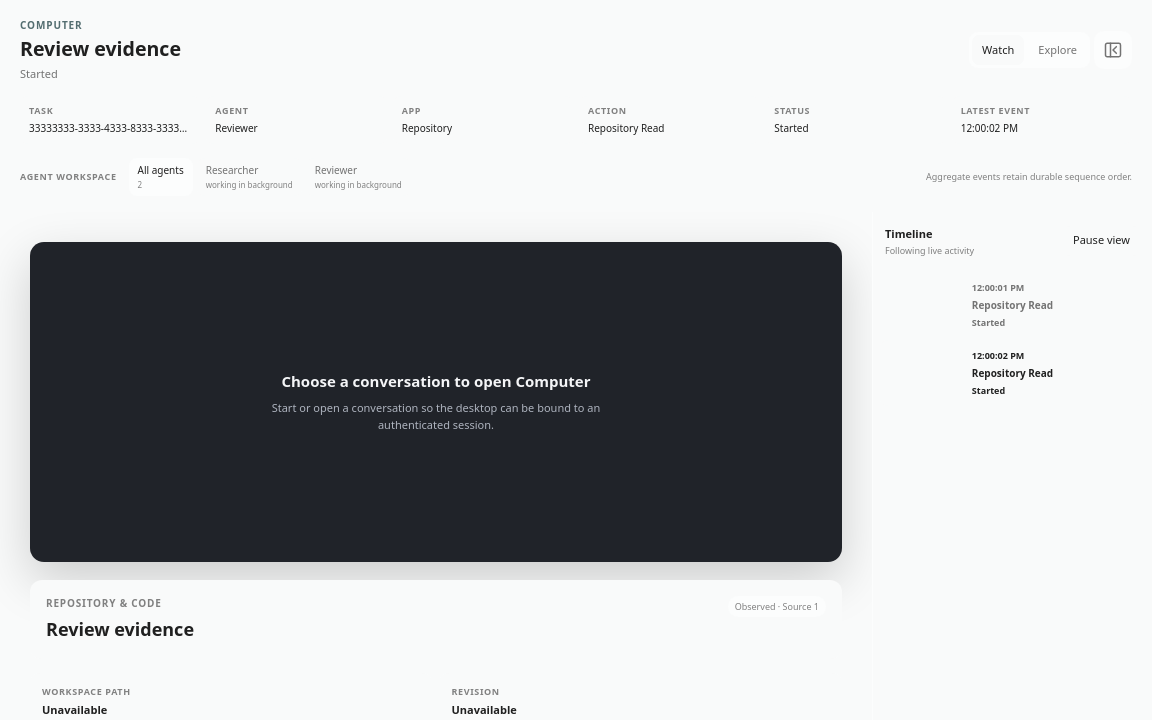
Computer stage › preserves independent live positions while switching agent workspaces
Click the button "Researcher working in background" at (249, 176), box [197,158,302,196]
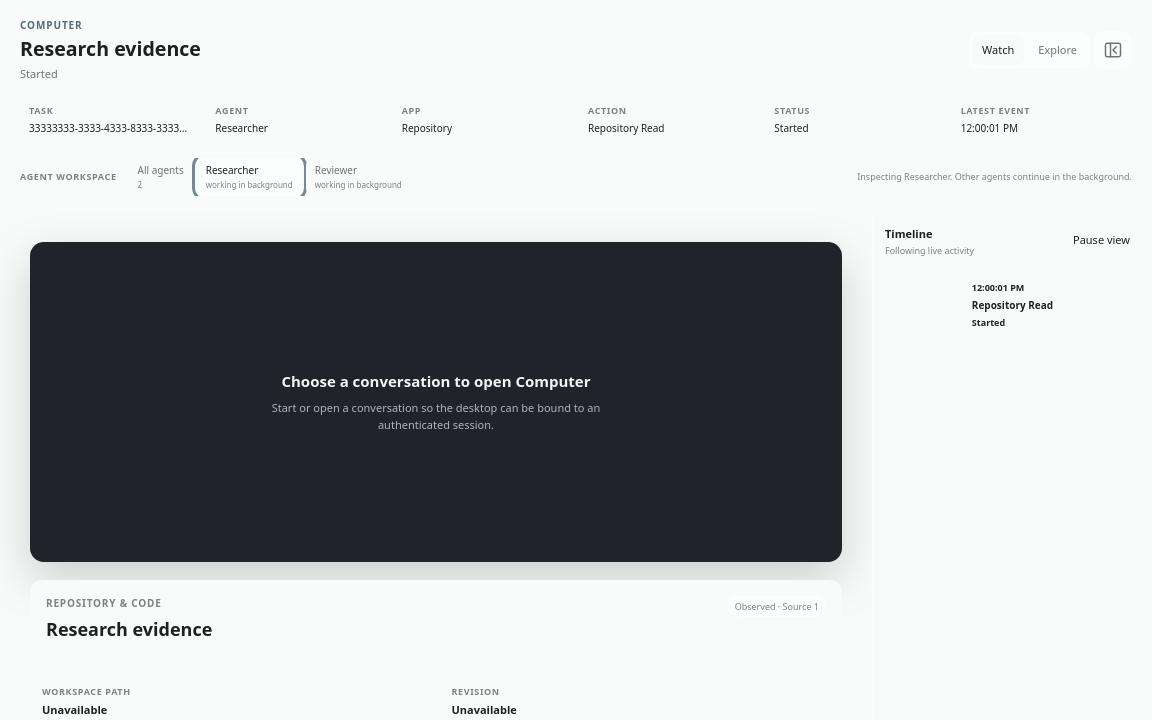
Expected: the number of headings "Research evidence" is 2, [20,35,201,62]; [46,616,212,642]
Click the button "Pause view" at (1102, 240), box [1063,226,1140,256]
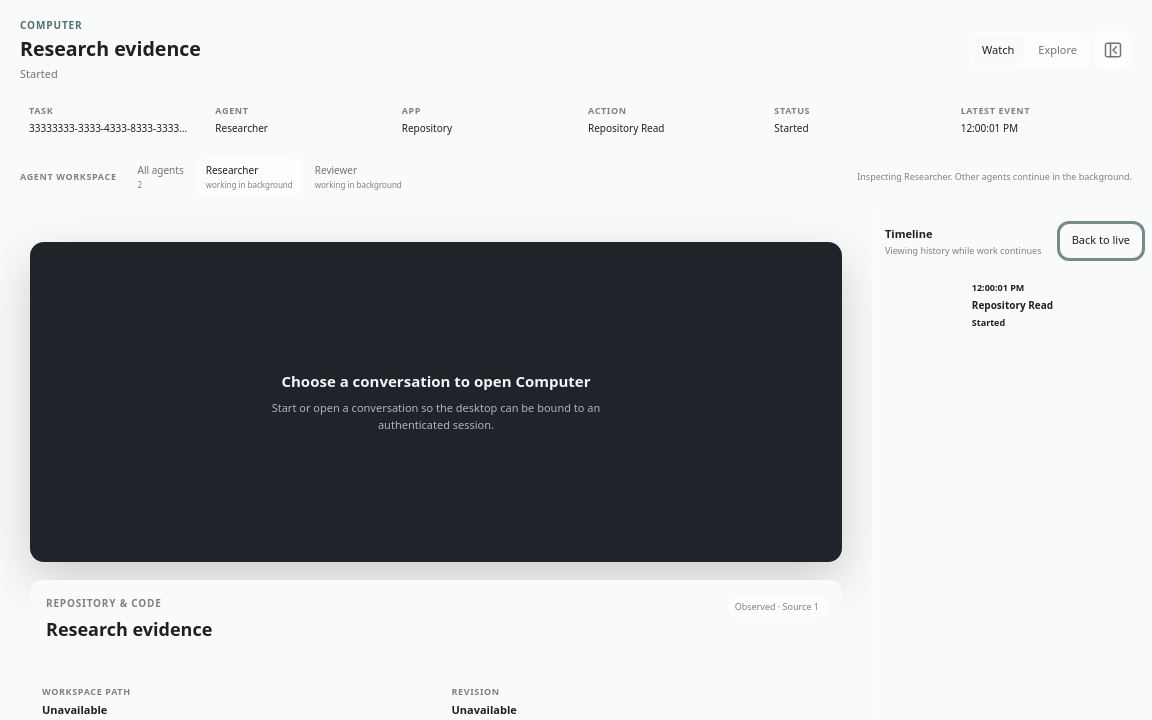
Result: the text "Viewing history while work continues" is shown at [885,245,1042,257]
Click the button "Reviewer working in background" at (358, 176), box [306,158,411,196]
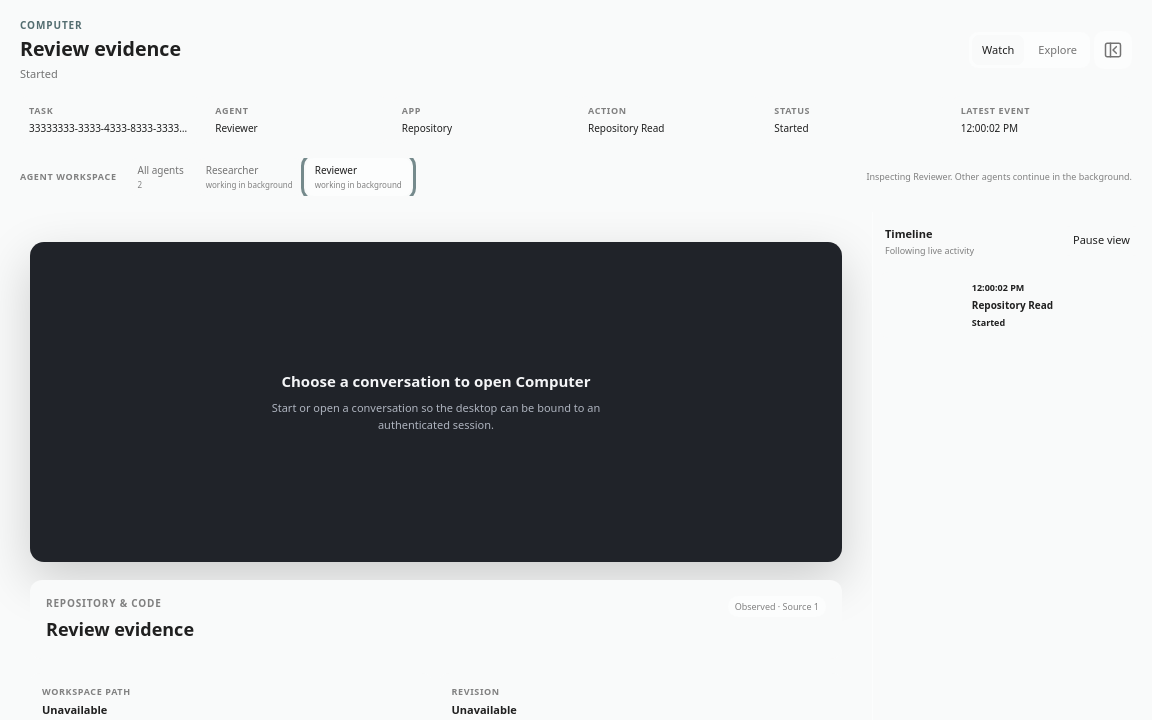
Expected: the number of headings "Review evidence" is 2, [20,35,181,62]; [46,616,194,642]
Result: the text "Following live activity" is shown at [885,245,974,257]
Click the button "Researcher working in background" at (249, 176), box [197,158,302,196]
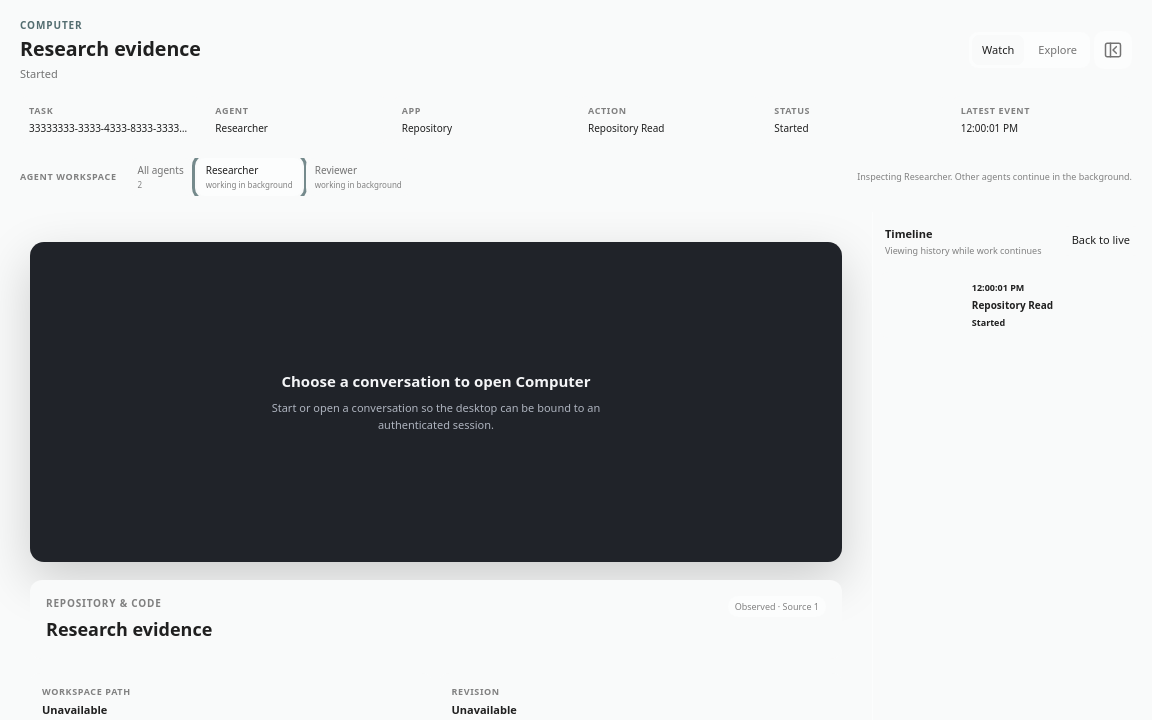
Result: the text "Other agents continue in the background" is shown at [857,170,1132,183]
Result: the text "Viewing history while work continues" is shown at [885,245,1042,257]
